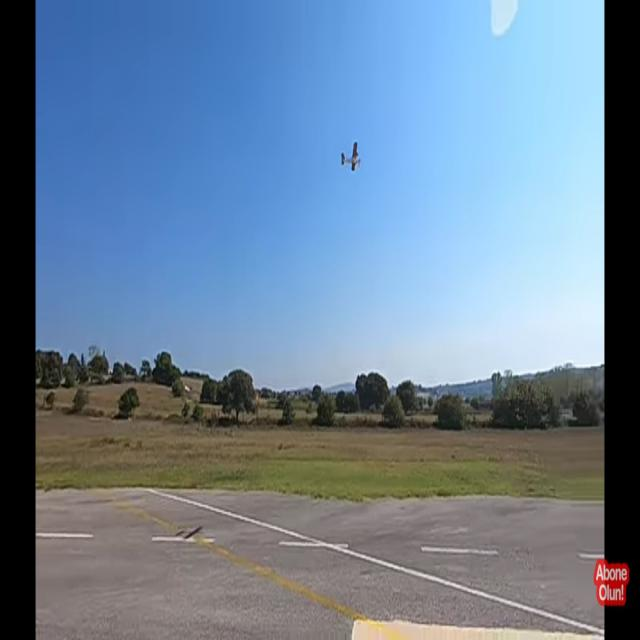iha: (341, 140, 362, 172)
